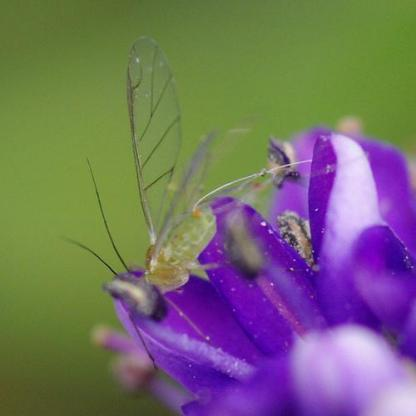aphid: (72, 27, 257, 297)
